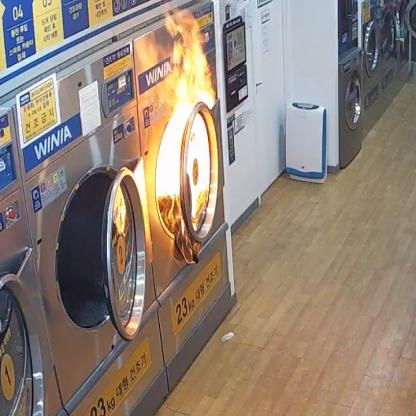fire: (154, 12, 220, 215)
